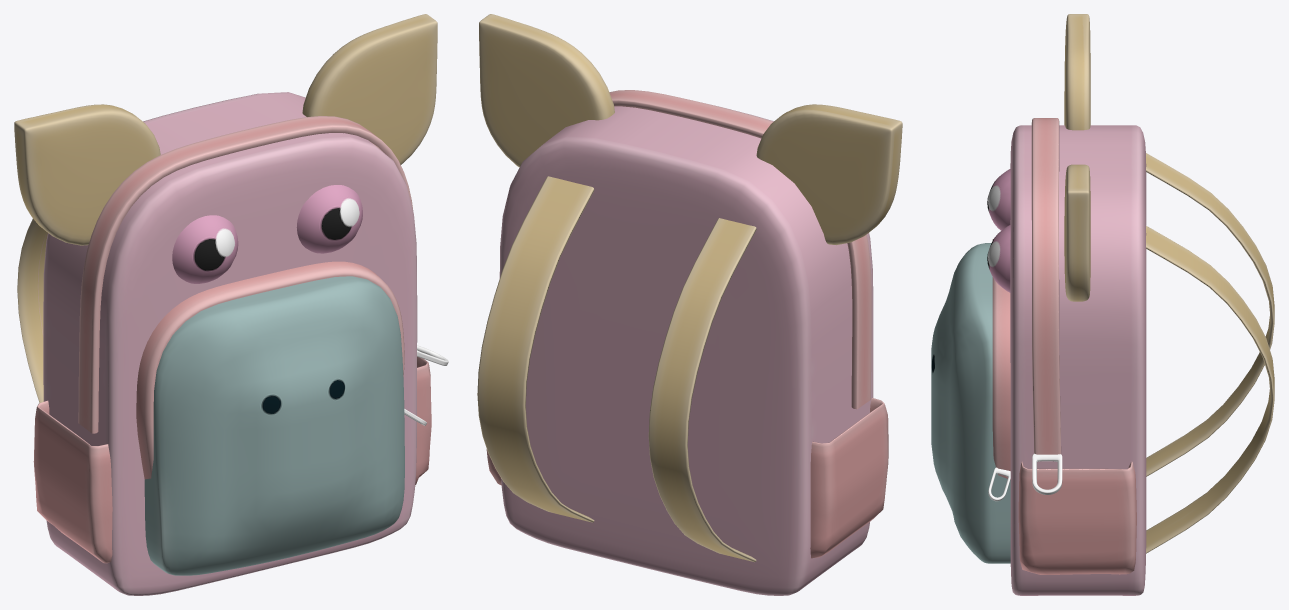
File: bag.glb
The picture shows the model from 3 angles, left to right: view 1: azimuth 30°, elevation 25°; view 2: azimuth 150°, elevation 25°; view 3: azimuth 270°, elevation 25°; orthographic projection. The views are drawn at different scales.
Visible parts, largest first — view 1: pPipe6; view 2: pPipe6; view 3: pPipe6.
Part boxes in pixels (left/top/right/bottom): pPipe6: left=14, top=14, right=448, bottom=595; pPipe6: left=477, top=14, right=902, bottom=595; pPipe6: left=931, top=14, right=1274, bottom=595.
Size of the model in its own units: 0.011 by 0.0122 by 0.00864.
1 material, 1 textured.
